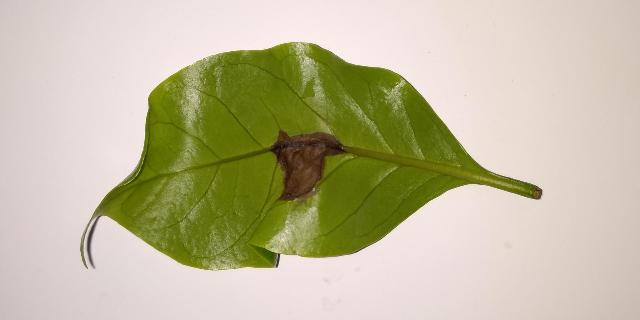rust: (269, 130, 352, 203)
